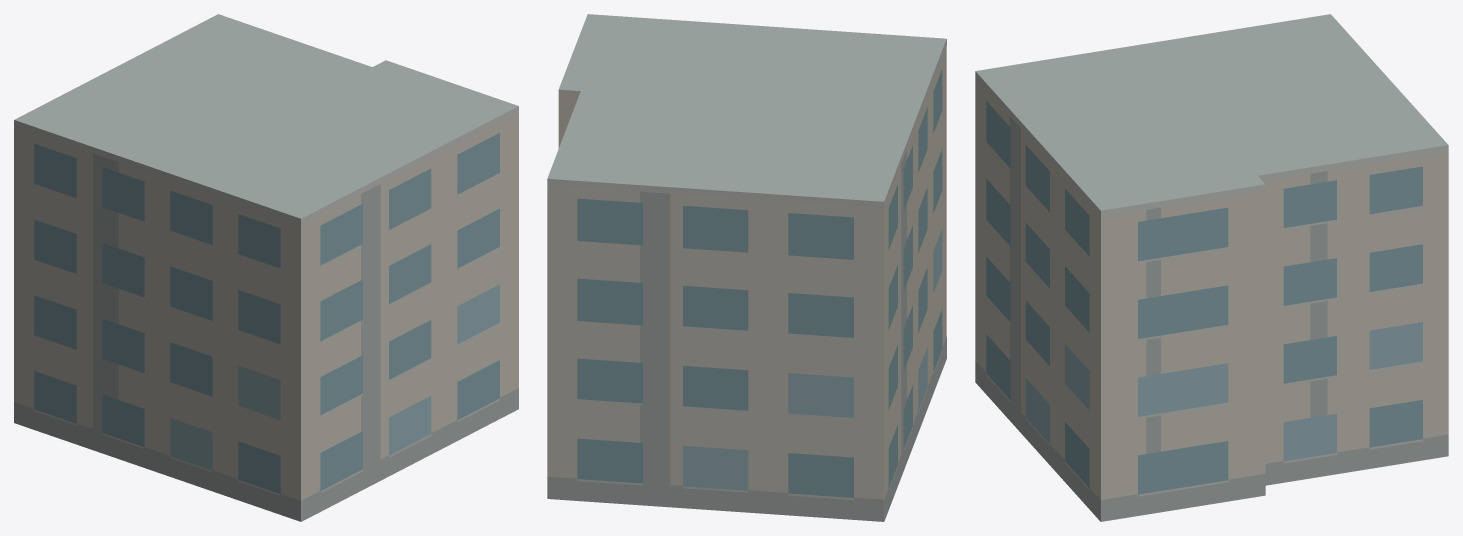
File: residential-151695a1-ad00-43bf-9729-b46ad5e2ada2.glb
The picture shows the model from 3 angles, left to right: view 1: azimuth 30°, elevation 25°; view 2: azimuth 150°, elevation 25°; view 3: azimuth 270°, elevation 25°; orthographic projection. The views are drawn at different scales.
Parts seen in each view (by area): view 1: residential-151695a1-ad00-43bf-9729-b46ad5e2ada2.tmp; view 2: residential-151695a1-ad00-43bf-9729-b46ad5e2ada2.tmp; view 3: residential-151695a1-ad00-43bf-9729-b46ad5e2ada2.tmp.
Part boxes in pixels (x1,y1,x2,y2): residential-151695a1-ad00-43bf-9729-b46ad5e2ada2.tmp: [14, 14, 518, 521]; residential-151695a1-ad00-43bf-9729-b46ad5e2ada2.tmp: [547, 14, 946, 521]; residential-151695a1-ad00-43bf-9729-b46ad5e2ada2.tmp: [975, 14, 1448, 521].
Size of the model in its own units: 16.28 by 12 by 16.55.
